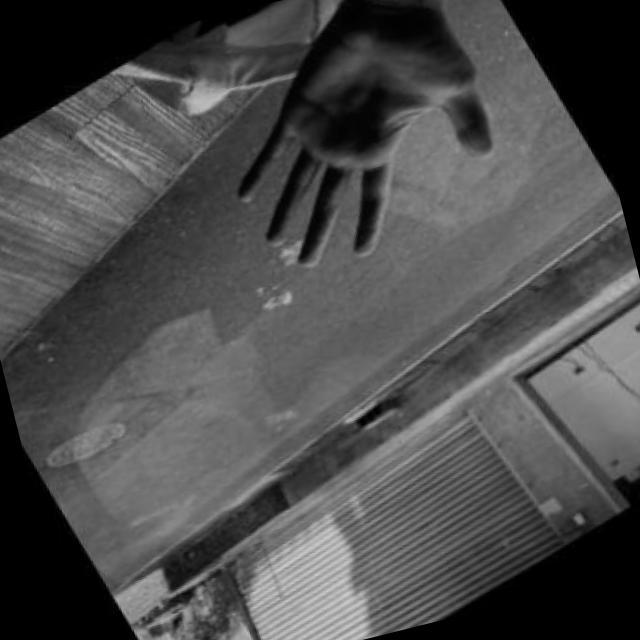without_gloves: (140, 0, 570, 333)
